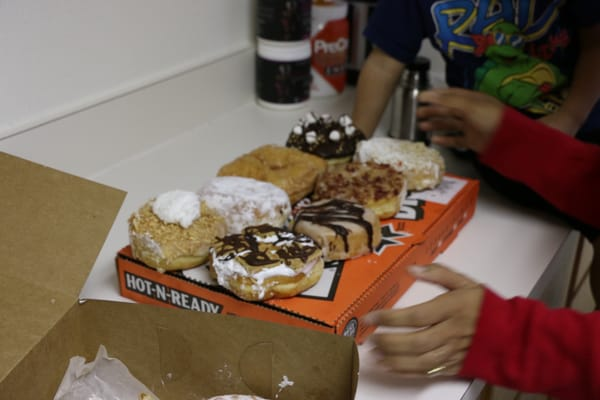burger: (253, 0, 314, 111), (311, 0, 350, 94)
curry: (0, 38, 583, 394)
salad: (210, 224, 325, 301), (128, 188, 227, 273), (217, 143, 326, 203), (292, 196, 380, 263), (312, 160, 408, 221), (199, 174, 292, 235), (285, 110, 364, 159)
